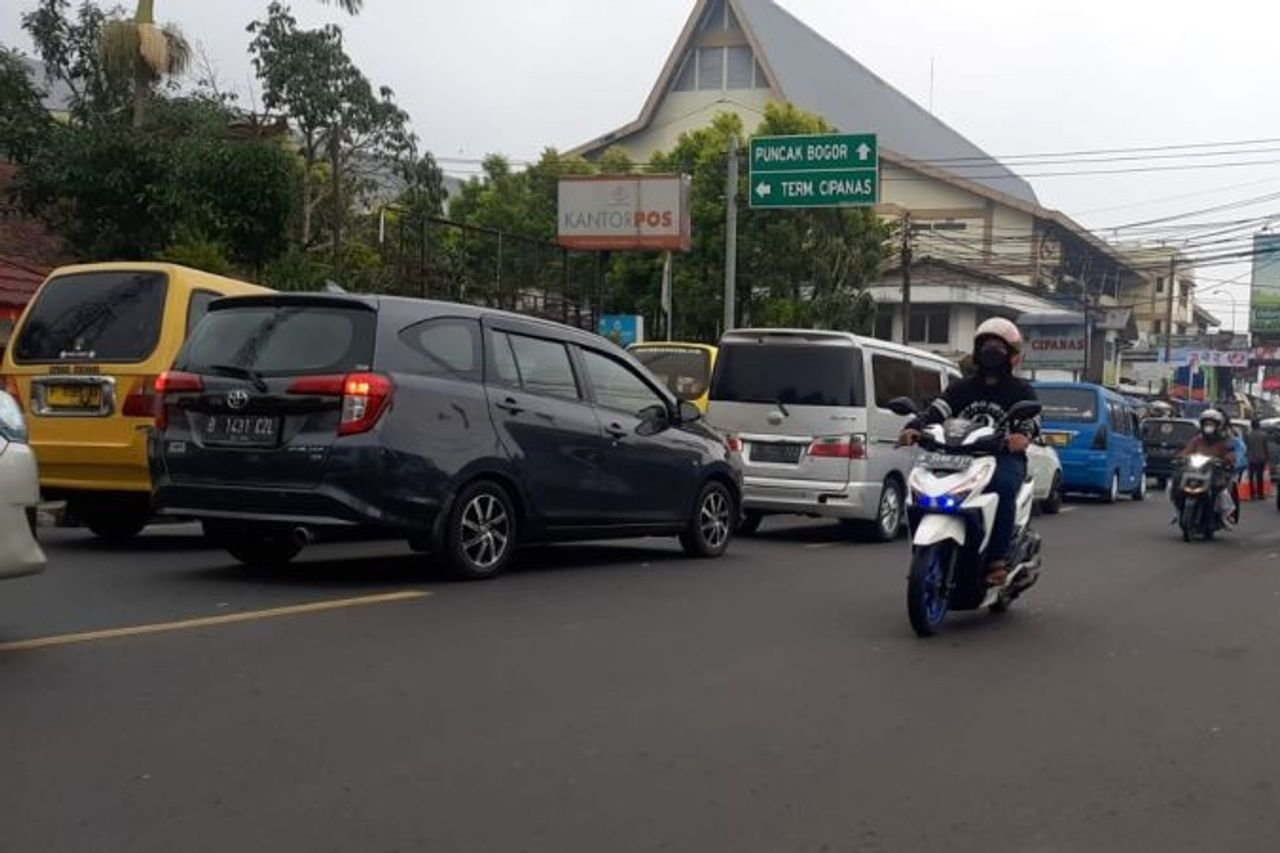mobil: (157, 286, 739, 575), (701, 291, 900, 551), (9, 246, 175, 506)
sepeda: (896, 311, 1054, 636)
